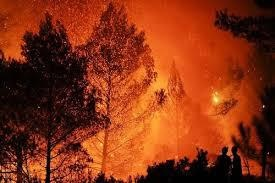fire: (203, 84, 226, 115)
